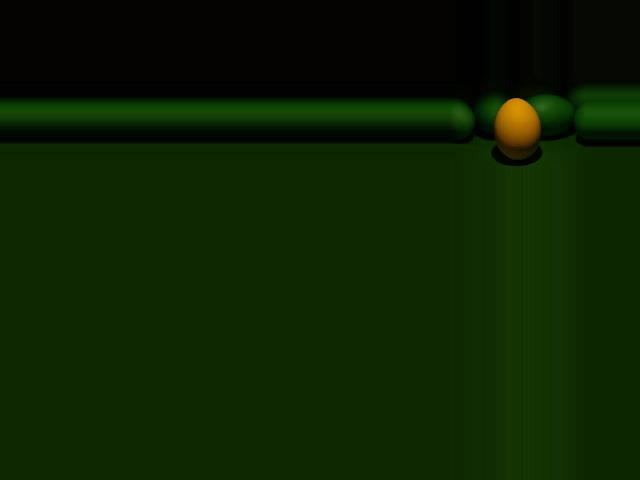egg: (494, 98, 541, 160)
